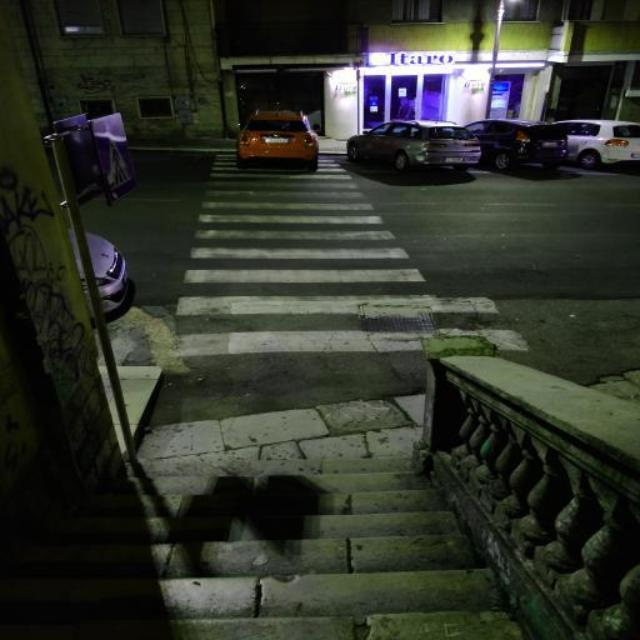sidewalk: (151, 155, 468, 414)
